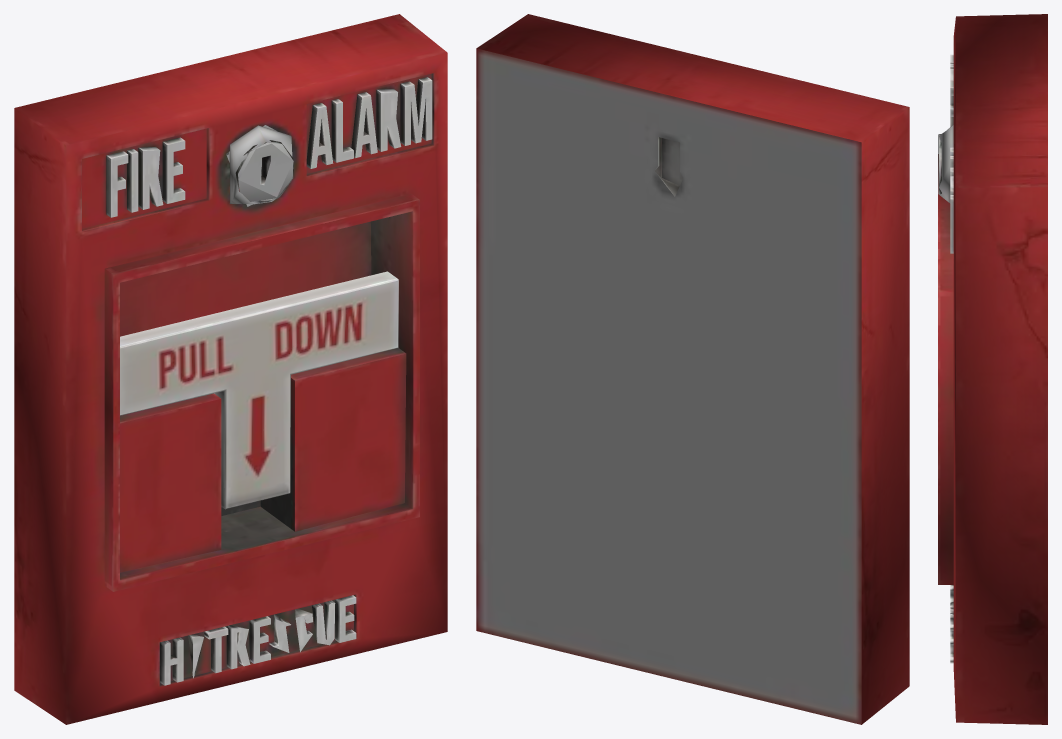
Rendered from alarm.glb.
The picture shows the model from 3 angles, left to right: view 1: azimuth 30°, elevation 25°; view 2: azimuth 150°, elevation 25°; view 3: azimuth 270°, elevation 25°; orthographic projection. The views are drawn at different scales.
Parts seen in each view (by area): view 1: fire_alarm; view 2: fire_alarm; view 3: fire_alarm.
Part boxes in pixels (box(x1,y1,x2,y2)): fire_alarm: box(14, 14, 447, 724); fire_alarm: box(476, 14, 909, 724); fire_alarm: box(938, 14, 1047, 724).
Bounding box in the file's own units: 0.0984 × 0.1422 × 0.0264.
1 material, 1 textured.
